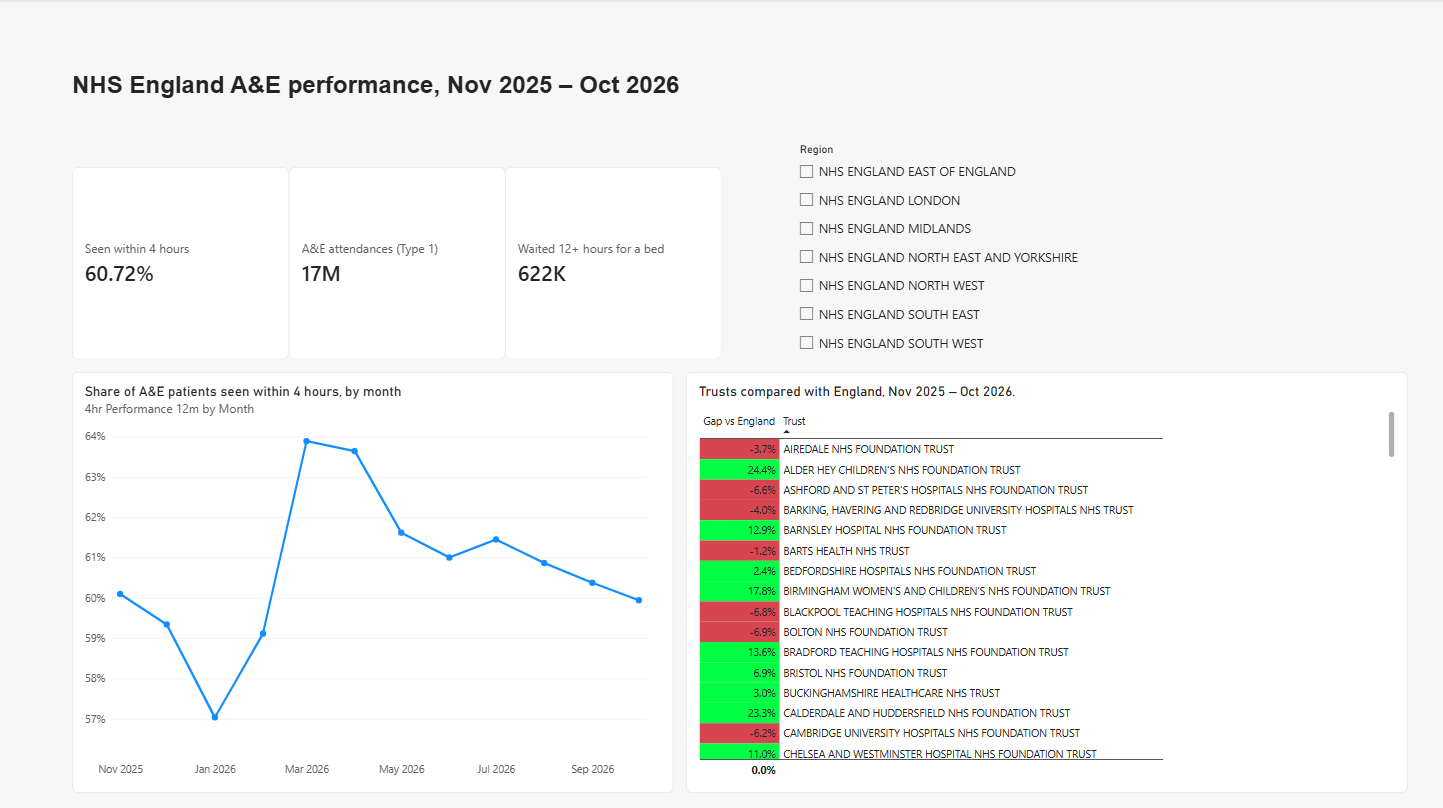

The page's visual inventory and layout, read from the dashboard file:
{"tool":"powerbi","page":{"name":"England overview","canvas":[1920,1080],"ordinal":0},"visuals":[{"type":"lineChart","title":"Share of A&E patients seen within 4 hours, by month","fields":{"Category":["AE_12m.Month"],"Y":["AE_12m.4hr Performance 12m"]},"box":[96,496,800,560],"z":0},{"type":"tableEx","title":"Trusts compared with England, Nov 2025 – Oct 2026.","fields":{"Values":["AE_12m.Gap vs England","AE_12m.Trust"]},"box":[912,496,960,560],"z":3},{"type":"textbox","box":[96,96,816,96],"z":4},{"type":"cardVisual","fields":{"Data":["AE_12m.4hr Performance 12m"]},"box":[96,224,288,256],"z":5},{"type":"cardVisual","fields":{"Data":["Sum(AE_12m.Attendances)"]},"box":[384,224,288,256],"z":6},{"type":"cardVisual","fields":{"Data":["Sum(AE_12m.Over 12 Hours)"]},"box":[672,224,288,256],"z":7},{"type":"slicer","fields":{"Values":["AE_12m.Region"]},"box":[1056,192,400,288],"z":8}]}

Visuals, with their boxes in screenshot pixels (x1, y1, x2, y2), scaled from the page's 1920x1080 canvas onto the 1443x808 screenshot:
"Share of A&E patients seen within 4 hours, by month" lineChart: l=72, t=371, r=673, b=790
"Trusts compared with England, Nov 2025 – Oct 2026." tableEx: l=685, t=371, r=1407, b=790
textbox: l=72, t=72, r=685, b=144
cardVisual - AE_12m.4hr Performance 12m: l=72, t=168, r=289, b=359
cardVisual - Sum(AE_12m.Attendances): l=289, t=168, r=505, b=359
cardVisual - Sum(AE_12m.Over 12 Hours): l=505, t=168, r=722, b=359
slicer - AE_12m.Region: l=794, t=144, r=1094, b=359
